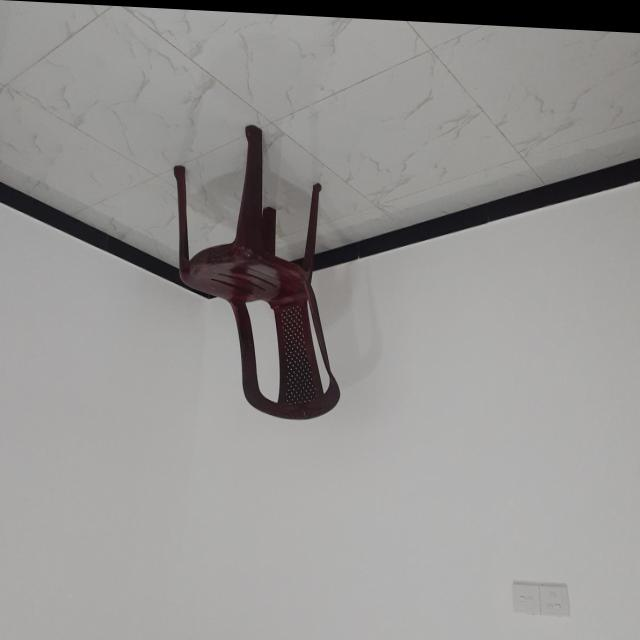Chair: (172, 119, 341, 420)
